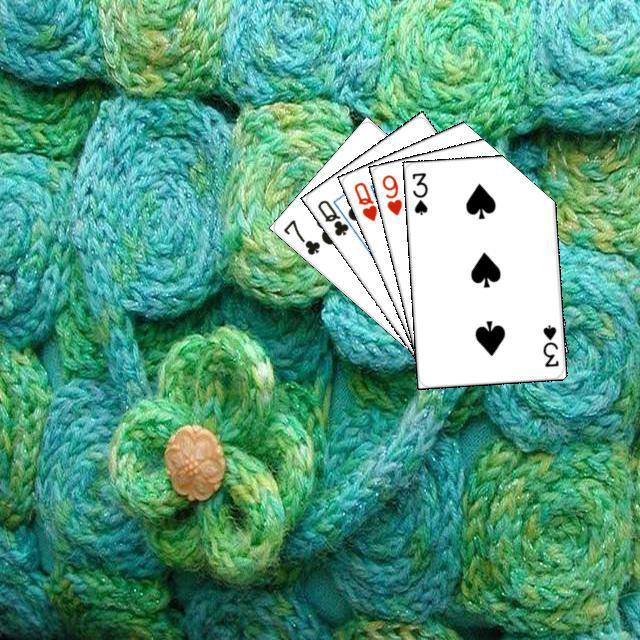3s: (407, 168, 429, 217), (538, 320, 560, 369)
7c: (278, 215, 322, 257)
9h: (377, 170, 404, 217)
Qc: (312, 194, 358, 238)
Qh: (349, 177, 379, 223)
